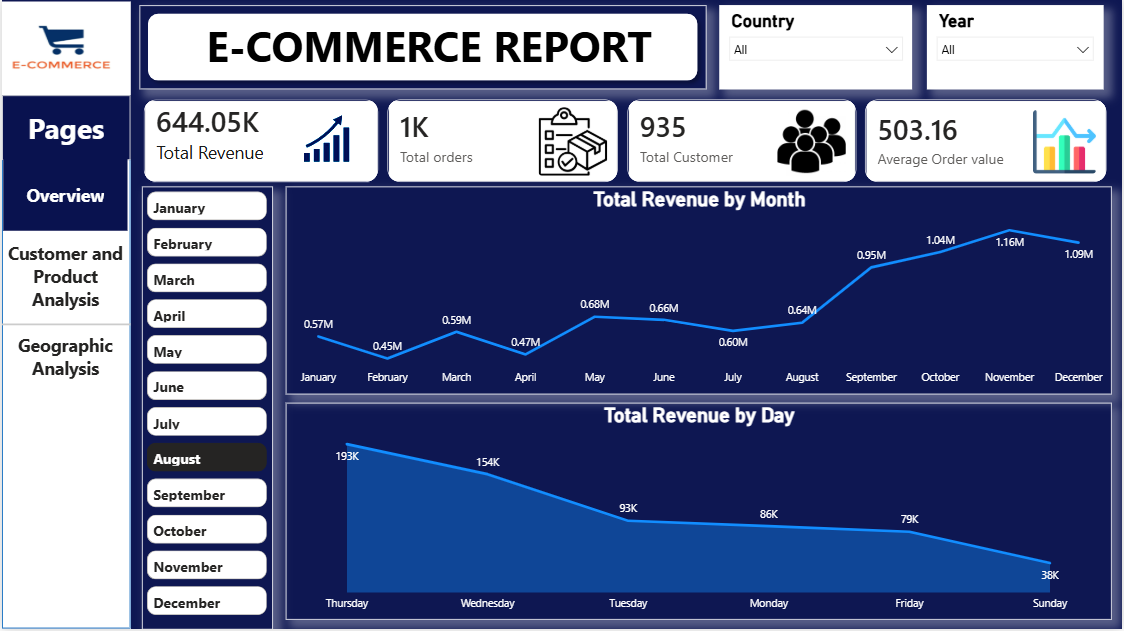

What the dashboard file says about the page in this screenshot:
{"tool":"powerbi","page":{"name":"Overview","canvas":[1280,720],"ordinal":0},"visuals":[{"type":"image","box":[0,2.7,146.8,107],"z":0},{"type":"shape","box":[157.8,6.9,647.7,96.1],"z":1000},{"type":"advancedSlicerVisual","fields":{"Values":["Custome Calender 1.Date.Variation.Date Hierarchy.Month"]},"box":[160.5,214.1,149.6,506.3],"z":2000},{"type":"textbox","box":[229.2,15.1,564,82.3],"z":3000},{"type":"slicer","fields":{"Values":["Cleaned E-Commerse Data.Country"]},"box":[820,7.1,220,95.7],"z":4000},{"type":"slicer","fields":{"Values":["Custome Calender 1.Date.Variation.Date Hierarchy.Year"]},"box":[1057.1,7.1,201.4,95.7],"z":5000},{"type":"cardVisual","fields":{"Data":["Cleaned E-Commerse Data.Total Revenue"]},"box":[157.8,109.8,278.6,104.3],"z":6000},{"type":"cardVisual","fields":{"Data":["Cleaned E-Commerse Data.Total orders"]},"box":[436.4,109.8,273.1,104.3],"z":7000},{"type":"cardVisual","fields":{"Data":["Cleaned E-Commerse Data.Total Customer"]},"box":[709.4,109.8,271.7,104.3],"z":8000},{"type":"cardVisual","fields":{"Data":["Cleaned E-Commerse Data.Average Order value"]},"box":[981.1,109.8,286.8,104.3],"z":9000},{"type":"lineChart","fields":{"Category":["Custome Calender 1.Date.Variation.Date Hierarchy.Month"],"Y":["Cleaned E-Commerse Data.Total Revenue"]},"box":[323.8,214.1,944.1,237.4],"z":10000},{"type":"areaChart","fields":{"Category":["Custome Calender 1.Day"],"Y":["Cleaned E-Commerse Data.Total Revenue"]},"box":[323.8,461.1,944.1,248.4],"z":11000},{"type":"shape","box":[0,183.4,146.8,536.5],"z":12000},{"type":"shape","box":[0,109.8,146.8,74.1],"z":13000},{"type":"pageNavigator","box":[1.4,182.5,142.7,269],"z":14000},{"type":"shape","box":[0,365,146.8,12.3],"z":15000}]}

Visuals, with their boxes in screenshot pixels (x1, y1, x2, y2), scaled from the page's 1280x720 canvas onto the 1124x631 screenshot:
image: select_region(0, 2, 129, 96)
shape: select_region(139, 6, 707, 90)
advancedSlicerVisual - Custome Calender 1.Date.Variation.Date Hierarchy.Month: select_region(141, 188, 272, 630)
textbox: select_region(201, 13, 697, 85)
slicer - Cleaned E-Commerse Data.Country: select_region(720, 6, 913, 90)
slicer - Custome Calender 1.Date.Variation.Date Hierarchy.Year: select_region(928, 6, 1105, 90)
cardVisual - Cleaned E-Commerse Data.Total Revenue: select_region(139, 96, 383, 188)
cardVisual - Cleaned E-Commerse Data.Total orders: select_region(383, 96, 623, 188)
cardVisual - Cleaned E-Commerse Data.Total Customer: select_region(623, 96, 862, 188)
cardVisual - Cleaned E-Commerse Data.Average Order value: select_region(862, 96, 1113, 188)
lineChart - Custome Calender 1.Date.Variation.Date Hierarchy.Month x Cleaned E-Commerse Data.Total Revenue: select_region(284, 188, 1113, 396)
areaChart - Custome Calender 1.Day x Cleaned E-Commerse Data.Total Revenue: select_region(284, 404, 1113, 622)
shape: select_region(0, 161, 129, 630)
shape: select_region(0, 96, 129, 161)
pageNavigator: select_region(1, 160, 127, 396)
shape: select_region(0, 320, 129, 331)
